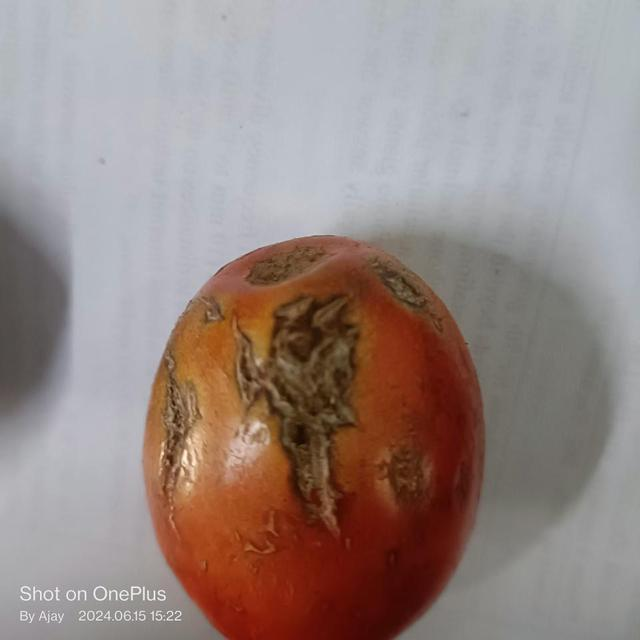Cracking Fruit: (104, 166, 290, 344)
